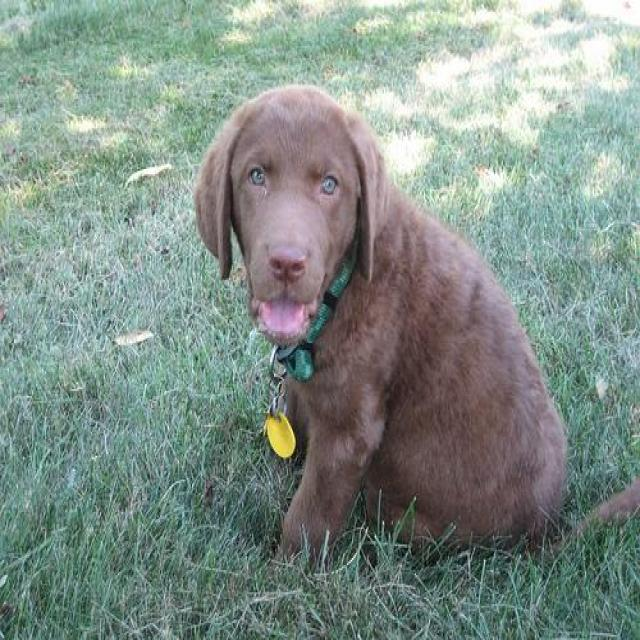sitting: (190, 76, 640, 585)
